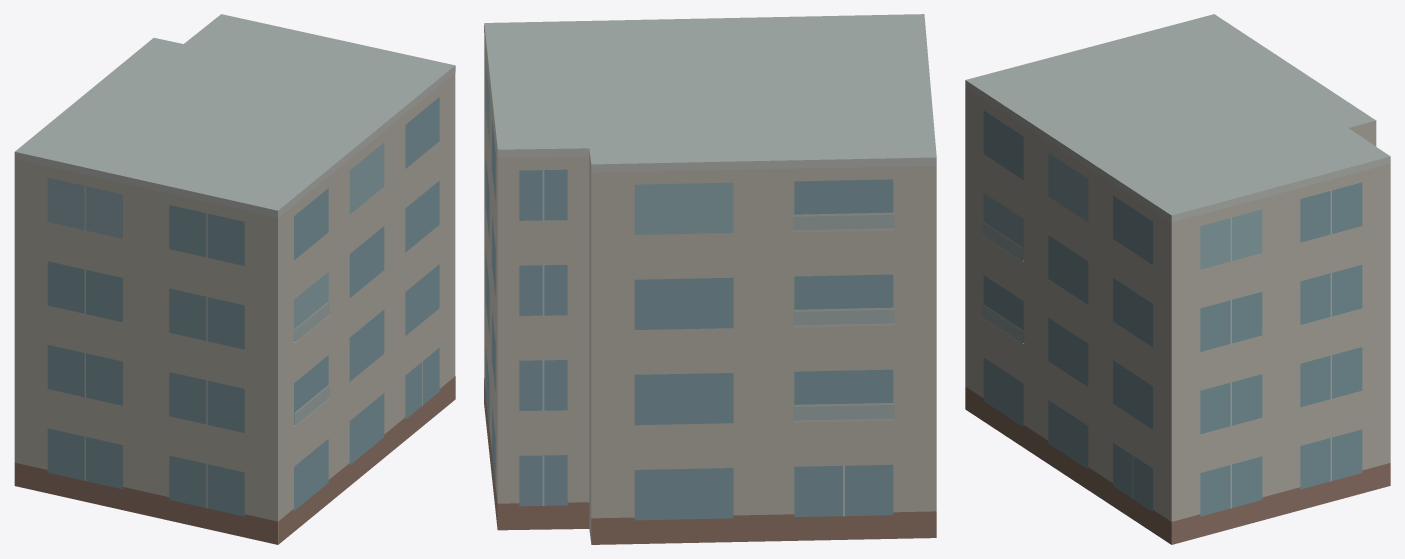
Rendered from survey-upis-32966837.glb.
3 views of the same model, side by side, from view 1: azimuth 30°, elevation 25°; view 2: azimuth 150°, elevation 25°; view 3: azimuth 270°, elevation 25° (orthographic). The views are drawn at different scales.
Parts seen in each view (by area): view 1: survey-upis-32966837.tmp; view 2: survey-upis-32966837.tmp; view 3: survey-upis-32966837.tmp.
Boxes of the visible parts, box(x1,y1,x2,y2) form: survey-upis-32966837.tmp: box(14, 14, 455, 544); survey-upis-32966837.tmp: box(484, 14, 936, 544); survey-upis-32966837.tmp: box(965, 14, 1390, 544).
Size of the model in its own units: 14.84 by 11.3 by 13.24.
